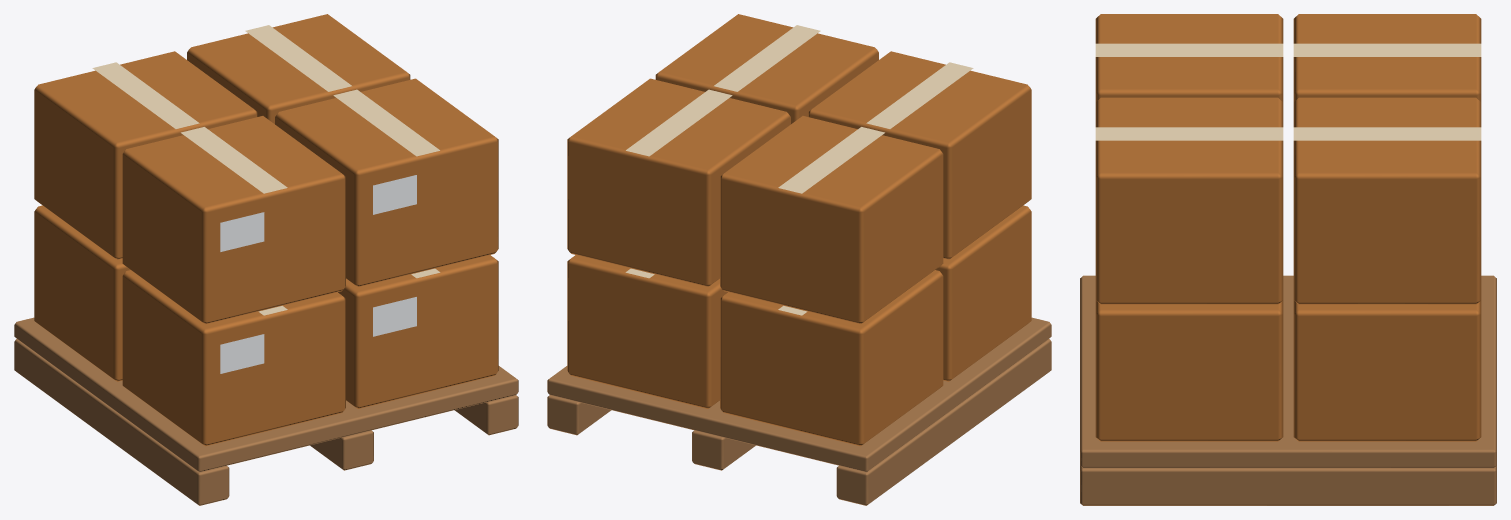
Rendered from CM_Interior_PalletStack.fbx.
3 views of the same model, side by side, from view 1: azimuth 30°, elevation 25°; view 2: azimuth 150°, elevation 25°; view 3: azimuth 270°, elevation 25° (orthographic). The views are drawn at different scales.
Visible parts, largest first — view 1: Body; view 2: Body; view 3: Body.
Part boxes in pixels (x1=…): Body: x1=14, y1=14, x2=518, y2=505; Body: x1=547, y1=14, x2=1051, y2=505; Body: x1=1080, y1=14, x2=1496, y2=505.
Bounding box in the file's own units: 4 × 4 × 3.46.
Materials: 1 (1 with a texture image).
